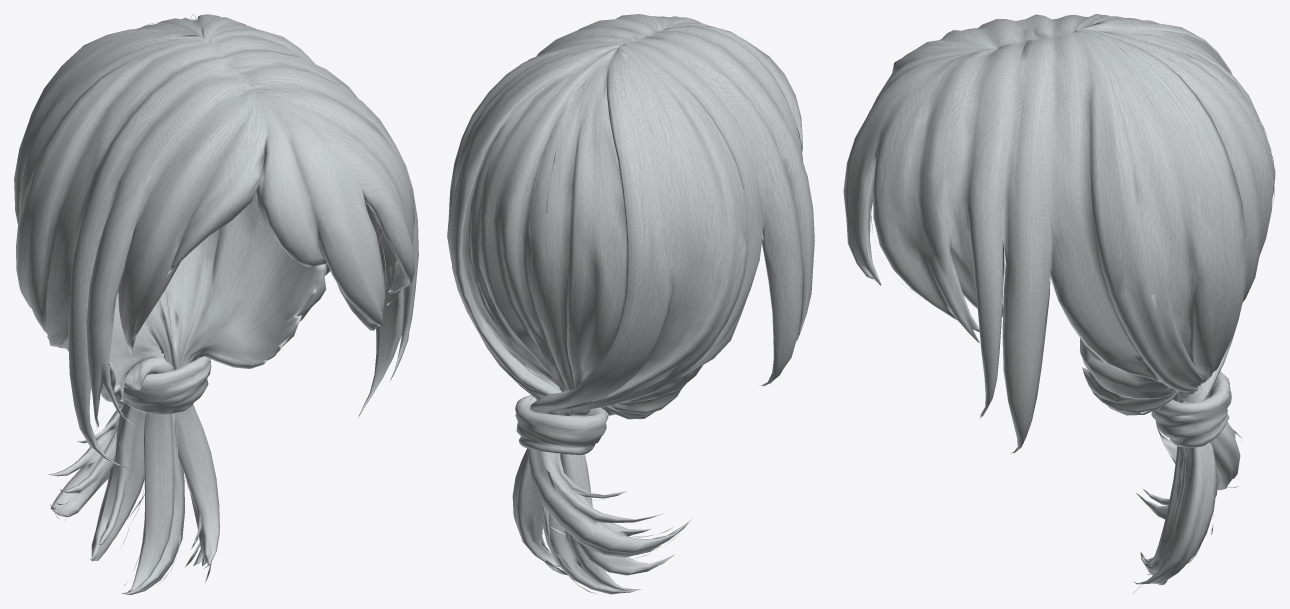
Rendered from hair-3.glb.
3 views of the same model, side by side, from view 1: azimuth 30°, elevation 25°; view 2: azimuth 150°, elevation 25°; view 3: azimuth 270°, elevation 25° (orthographic). The views are drawn at different scales.
Size of the model in its own units: 0.5806 by 0.9517 by 0.6685.
Materials: 1 (1 with a texture image).
